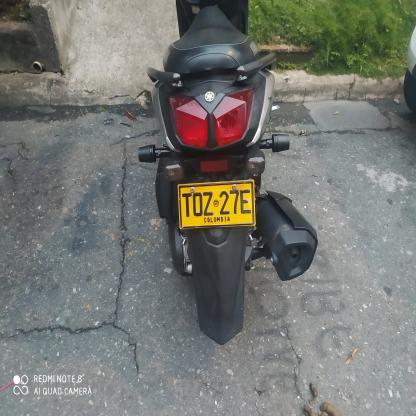placa: (174, 176, 258, 232)
